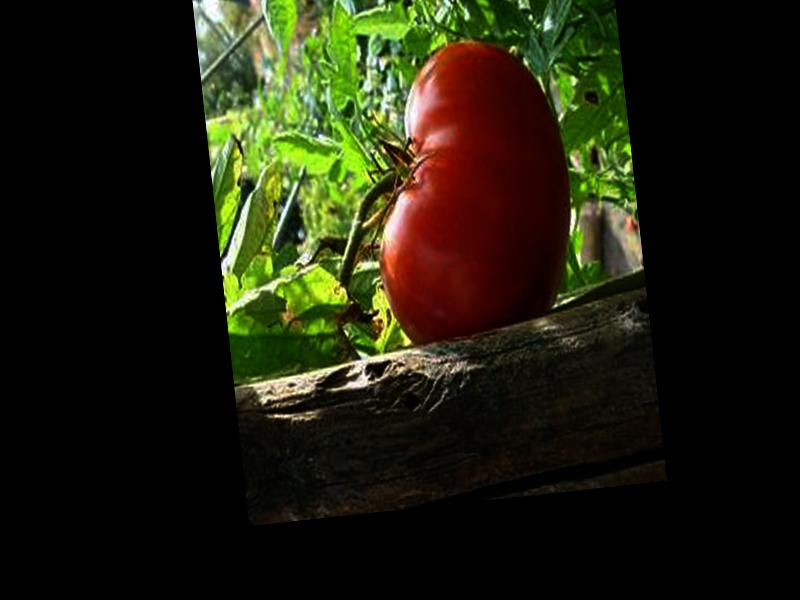Tomato: (356, 31, 582, 352)
